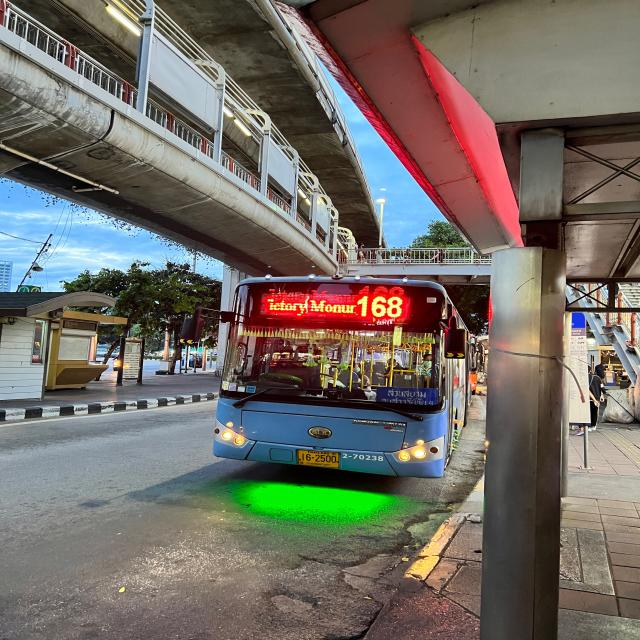BMTA-bus: (211, 277, 464, 480)
Bus Line Number: (356, 294, 405, 320)
Bus Side Number: (340, 452, 386, 462)
Destination Sign: (375, 386, 440, 408)
